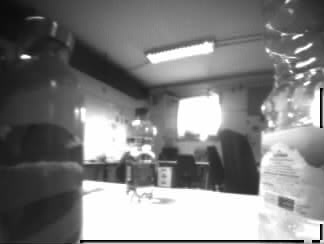Bottle: (1, 15, 85, 244), (256, 1, 324, 243), (123, 107, 156, 203)
